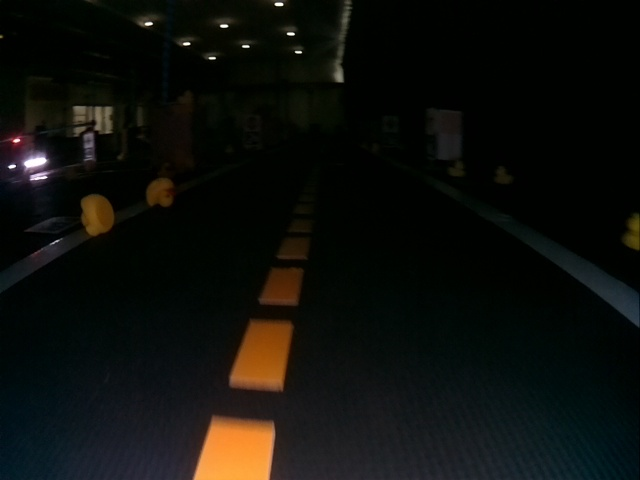Duckie: (81, 197, 114, 233), (147, 179, 175, 208), (623, 214, 639, 250), (448, 161, 466, 176)
